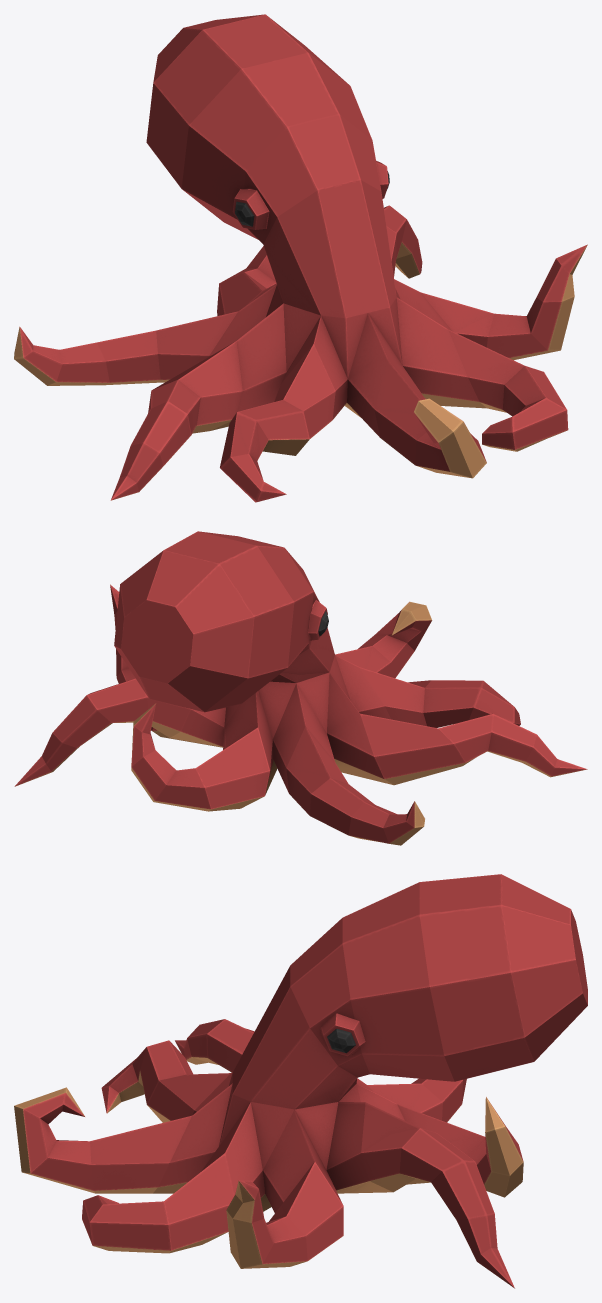
File: Octopus.obj
3 renders of one model, top to bottom at view 1: azimuth 30°, elevation 25°; view 2: azimuth 150°, elevation 25°; view 3: azimuth 270°, elevation 25°, orthographic. The views are drawn at different scales.
Parts seen in each view (by area): view 1: Octopus_mesh; view 2: Octopus_mesh; view 3: Octopus_mesh.
Boxes of the visible parts, bbox=[...] form: Octopus_mesh: bbox=[14, 14, 587, 502]; Octopus_mesh: bbox=[14, 531, 587, 845]; Octopus_mesh: bbox=[14, 874, 587, 1288].
Size of the model in its own units: 17.74 by 10.08 by 17.24.
1 material, 1 textured.
